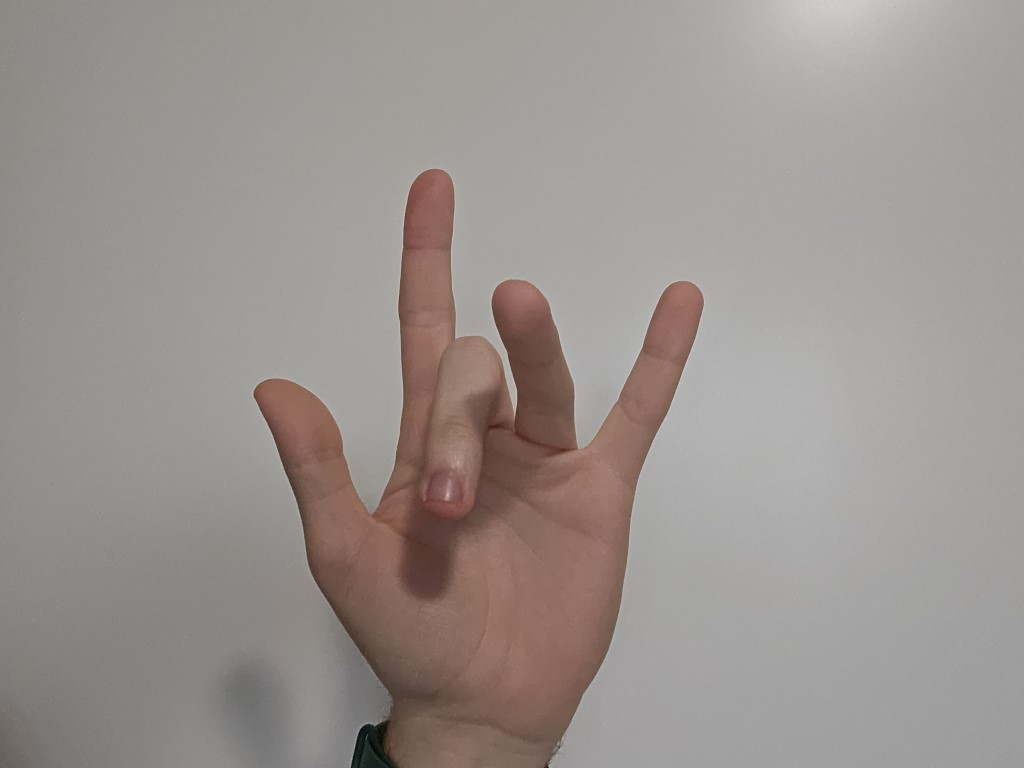reset: (188, 143, 758, 733)
